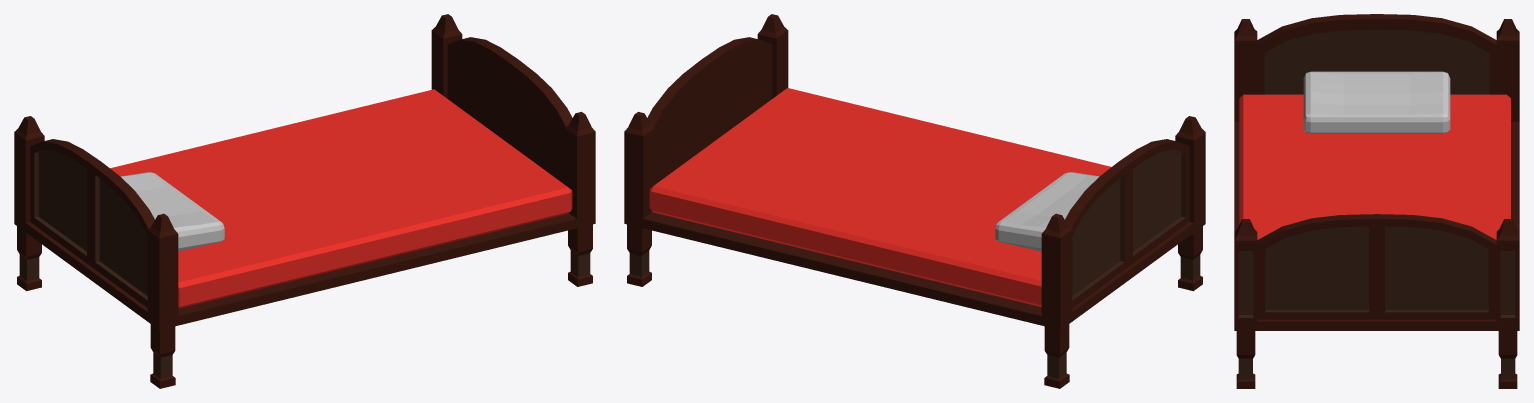
File: Bed.fbx
3 renders of one model, left to right at view 1: azimuth 30°, elevation 25°; view 2: azimuth 150°, elevation 25°; view 3: azimuth 270°, elevation 25°, orthographic.
Parts seen in each view (by area): view 1: Bed; view 2: Bed; view 3: Bed.
Part boxes in pixels (x1,y1,x2,y2): Bed: (14, 14, 595, 388); Bed: (624, 14, 1205, 388); Bed: (1234, 14, 1519, 388).
Size of the model in its own units: 3272 by 1231 by 1885.
